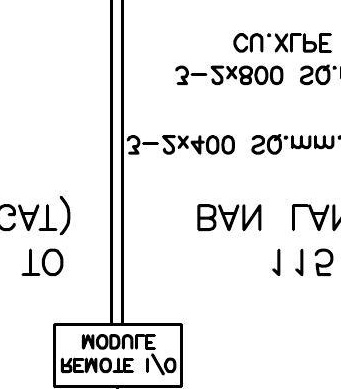remote_io_module: (52, 322, 183, 388)
